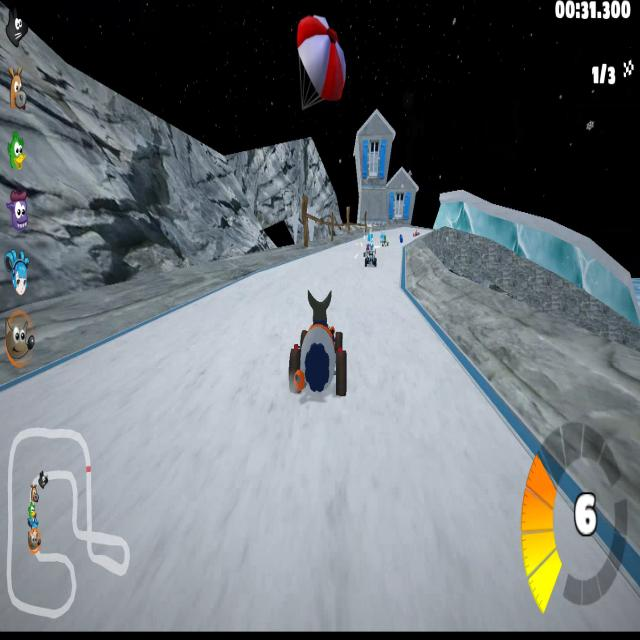enemy_kart: (362, 247, 378, 271)
nitro: (397, 235, 406, 245)
player_kart: (287, 284, 350, 396)
track: (3, 395, 500, 640), (500, 530, 630, 632), (212, 287, 286, 395), (349, 304, 426, 396), (502, 454, 569, 541), (137, 323, 212, 395), (50, 357, 137, 397), (426, 357, 475, 396), (278, 269, 370, 283), (380, 253, 400, 302), (312, 250, 364, 263), (255, 270, 279, 282), (406, 228, 435, 236), (300, 254, 310, 264)
